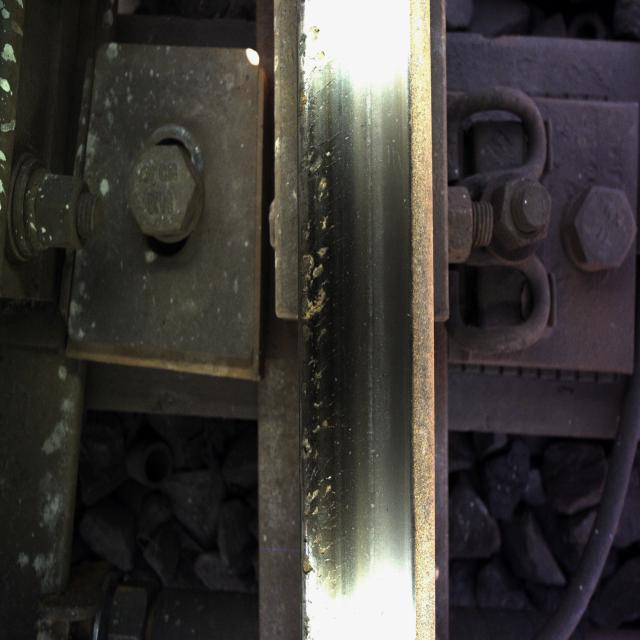scar: (305, 0, 379, 599)
